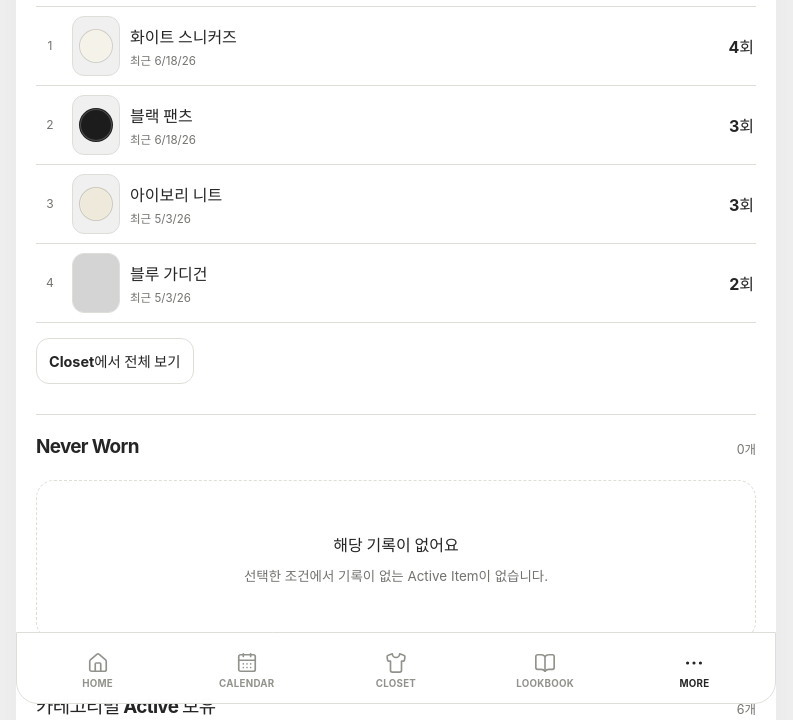
StatisticsPage Phase 4 item usage › opens the full item list with the same statistics conditions
The image size is (793, 720).
(page scrolled)
Click the link "Closet에서 전체 보기": point(115, 361) [36,338,194,384]
(page scrolled)
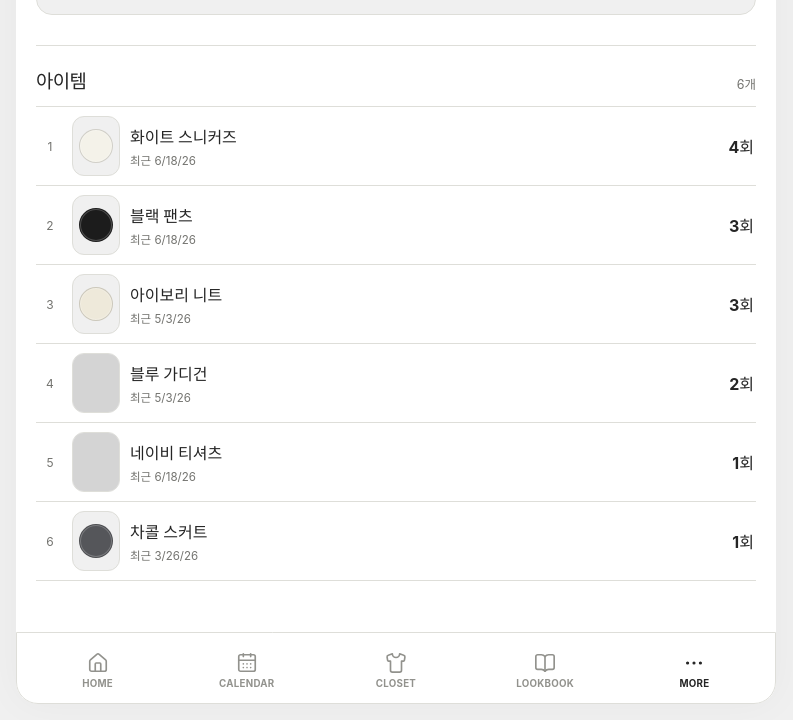
Expected: the text "6개" is shown, [737,75,756,93]
Expected: the link with aria-label "네이비 티셔츠 Item 상세 보기" is shown, [36,423,756,502]
